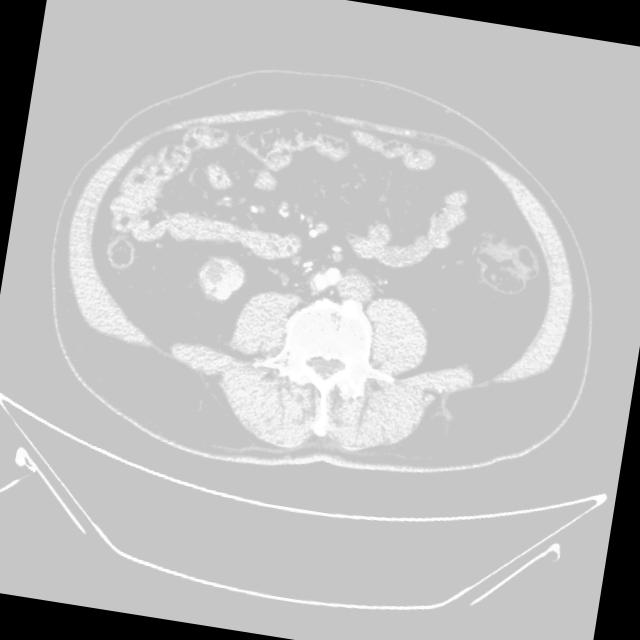TUMOR: (147, 207, 311, 339)
